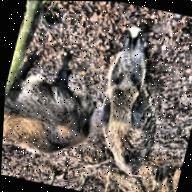boar: (84, 23, 181, 181), (2, 39, 109, 164)
